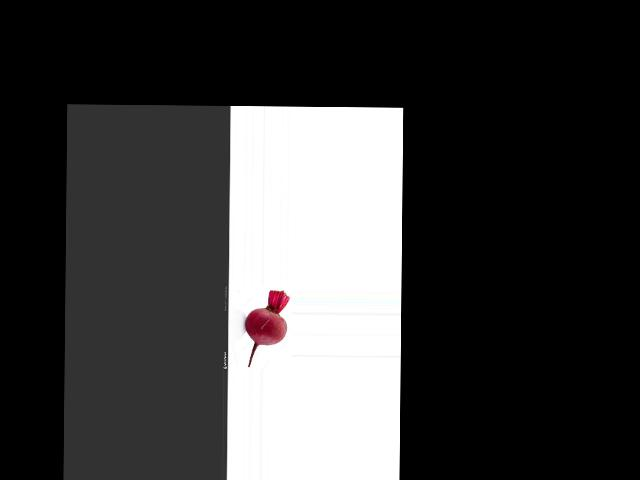beet: (244, 289, 289, 367)
